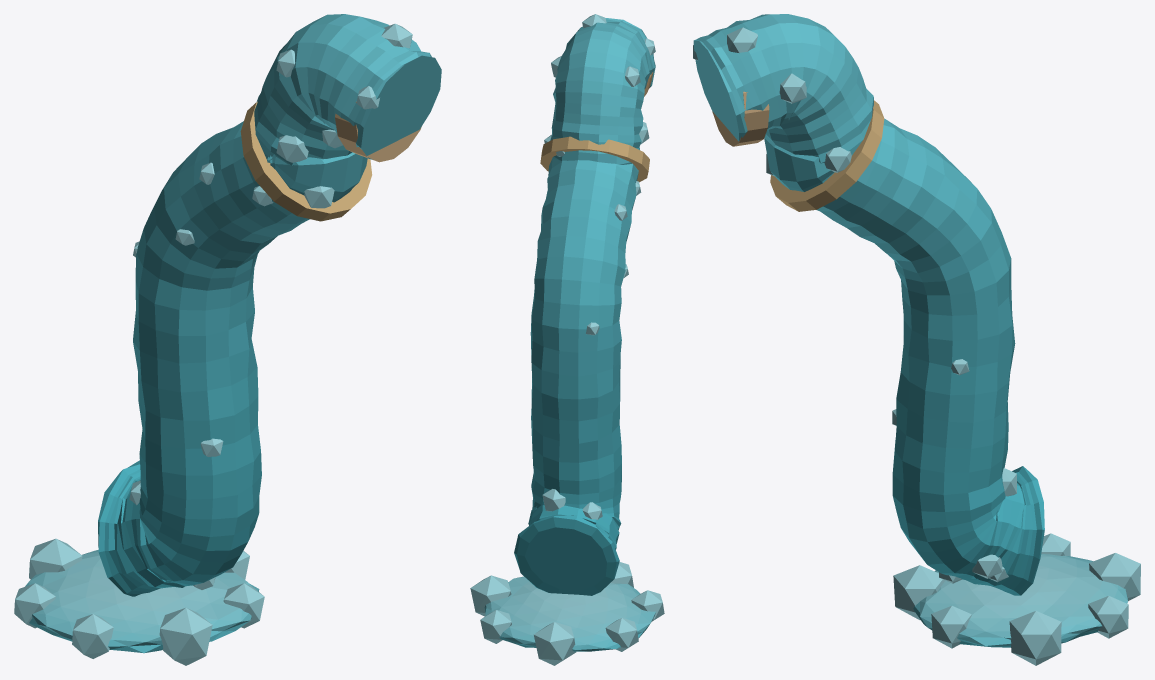
Rendered from goo_drop_tube_goo_2@beach.fbx.
3 views of the same model, side by side, from view 1: azimuth 30°, elevation 25°; view 2: azimuth 150°, elevation 25°; view 3: azimuth 270°, elevation 25° (orthographic). The views are drawn at different scales.
Visible parts, largest first — view 1: goo_drop_tube_goo_2; view 2: goo_drop_tube_goo_2; view 3: goo_drop_tube_goo_2.
Boxes of the visible parts, left/top/right/bottom form: goo_drop_tube_goo_2: left=14, top=14, right=441, bottom=665; goo_drop_tube_goo_2: left=470, top=14, right=664, bottom=665; goo_drop_tube_goo_2: left=693, top=14, right=1140, bottom=665.
Bounding box in the file's own units: 8.66 × 21.79 × 13.69.
